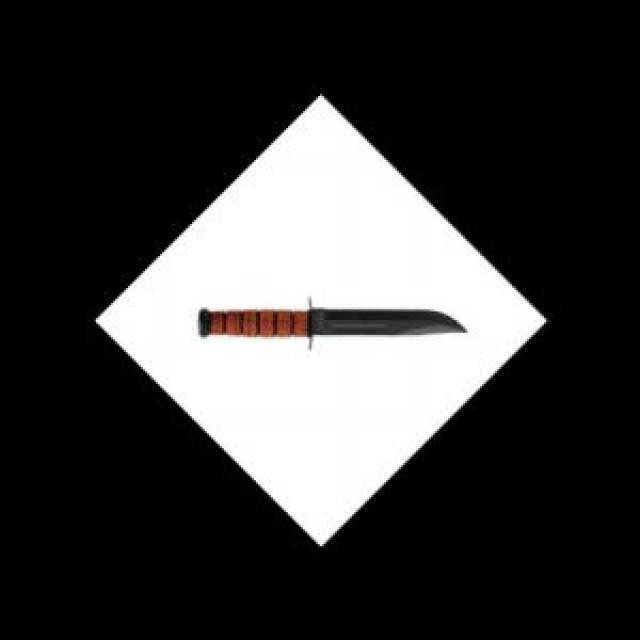knife: (186, 298, 480, 346)
